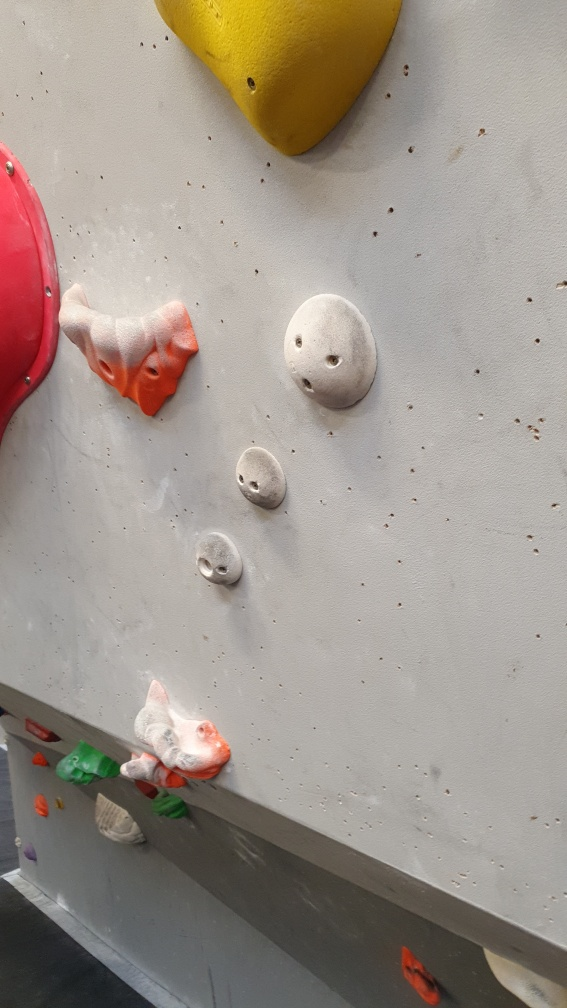Jug: (58, 280, 203, 423), (130, 679, 233, 781)
Sloper: (281, 291, 382, 411), (234, 445, 292, 517), (196, 529, 248, 588)
